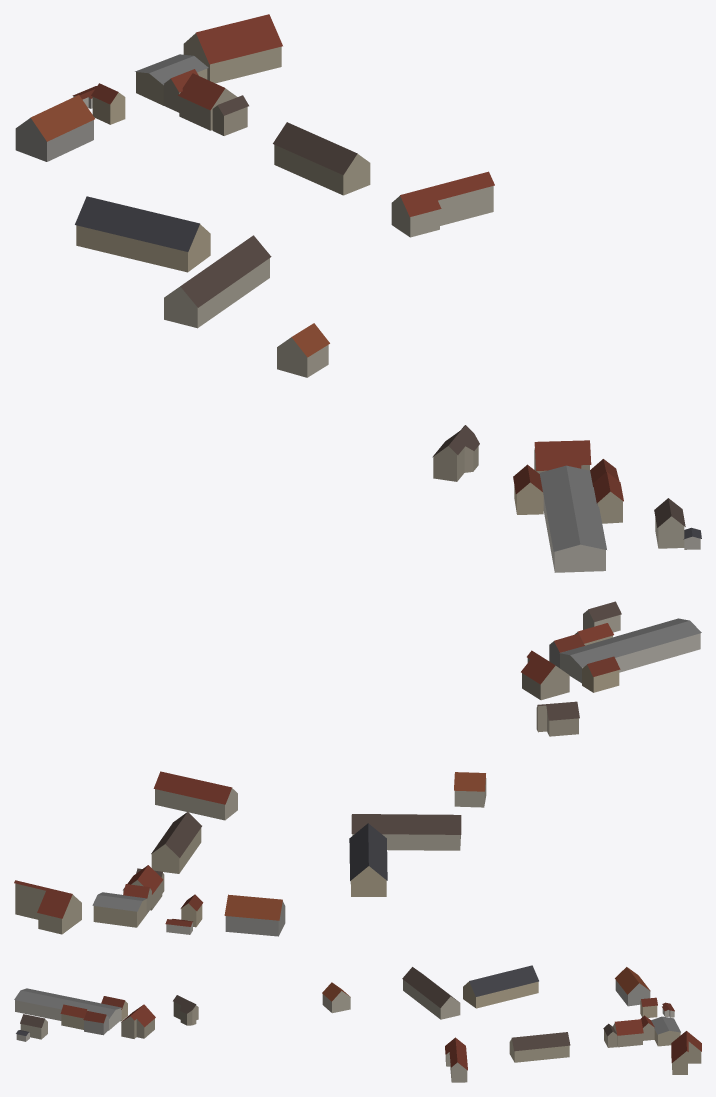
3 renders of one model, top to bottom at view 1: azimuth 30°, elevation 25°; view 2: azimuth 150°, elevation 25°; view 3: azimuth 270°, elevation 25°, orthographic. The views are drawn at different scales.
Parts seen in each view (by area): view 1: buildings; view 2: buildings; view 3: buildings.
Boxes of the visible parts, x1,y1,x2,y2 form: buildings: (15, 14, 701, 572); buildings: (14, 601, 701, 936); buildings: (14, 965, 701, 1082).
Bounding box in the file's own units: 104 × 21.17 × 307.
